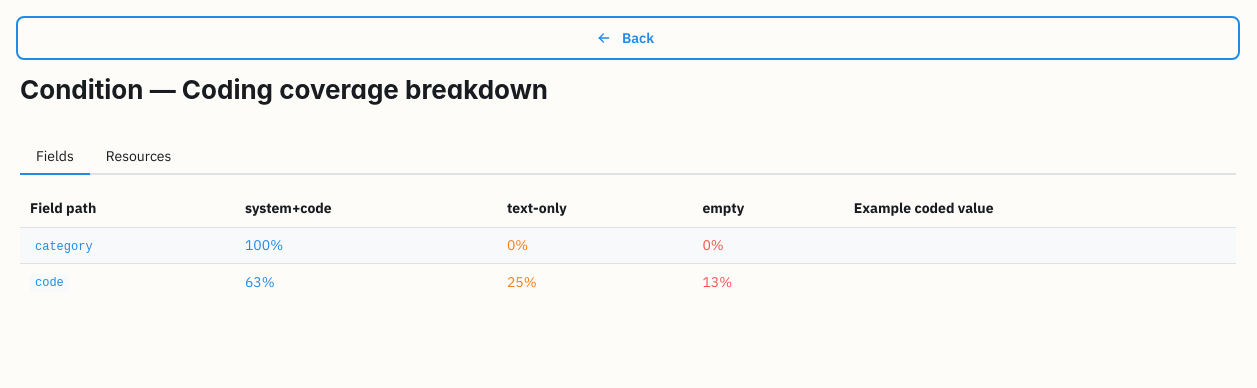
CodingDrillDown › cross-filter: clicking field row activates Resources tab with filter
Expected: the text "code" is shown, [30, 274, 69, 292]
Click the button "code 63% 25% 13%" at (49, 283), box [20, 264, 1236, 300]
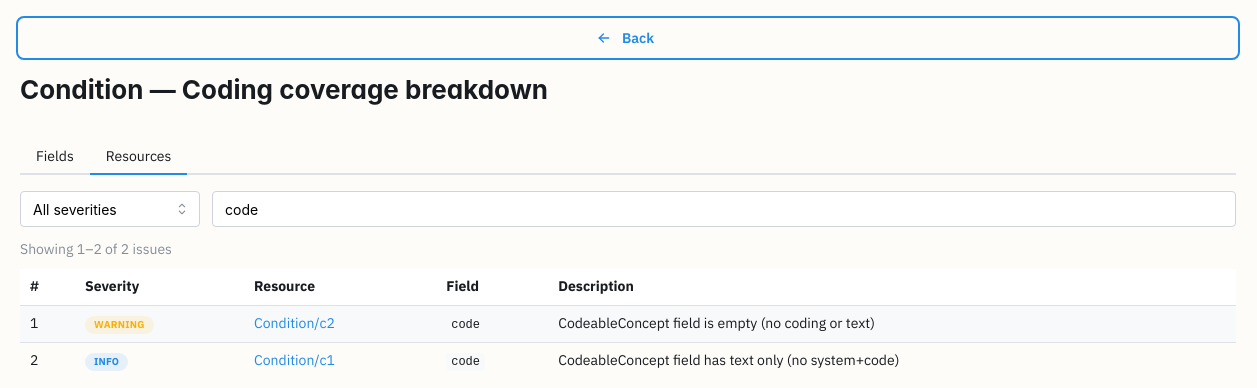
Result: the field named "Filter by field path" holds "code" at [212, 191, 1236, 227]
